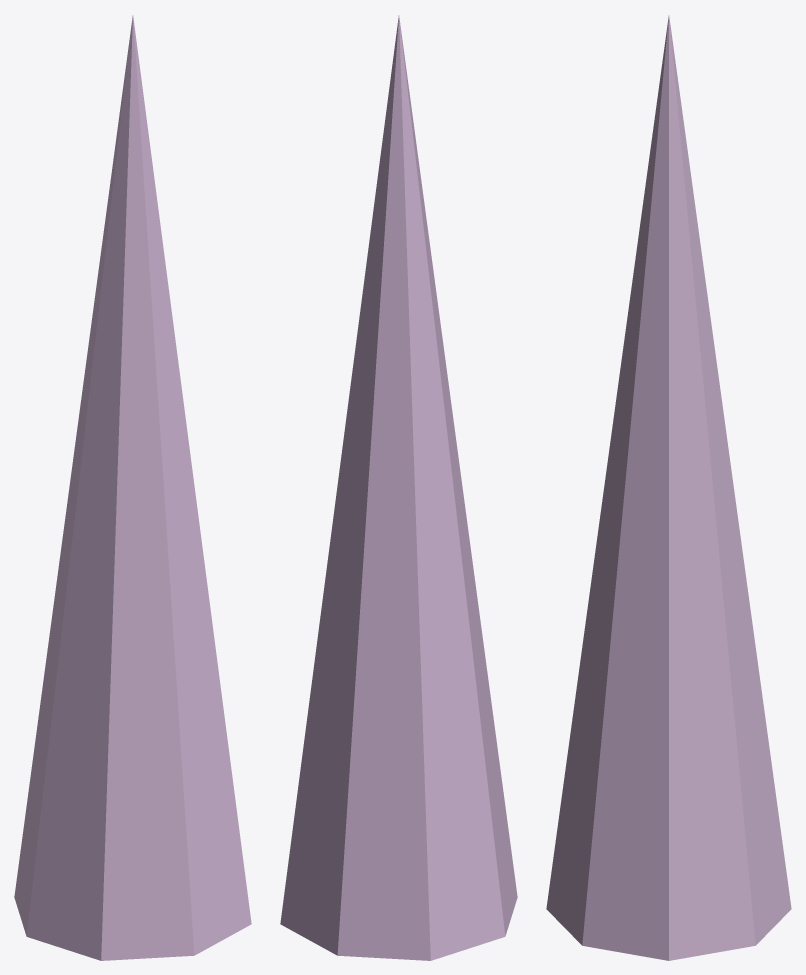
File: espinho.fbx
3 views of the same model, side by side, from view 1: azimuth 30°, elevation 25°; view 2: azimuth 150°, elevation 25°; view 3: azimuth 270°, elevation 25° (orthographic).
Visible parts, largest first — view 1: Cone.001; view 2: Cone.001; view 3: Cone.001.
Boxes of the visible parts, bbox=[...] form: Cone.001: bbox=[14, 15, 251, 960]; Cone.001: bbox=[280, 15, 517, 960]; Cone.001: bbox=[546, 15, 791, 960].
Bounding box in the file's own units: 203 × 819 × 203.
